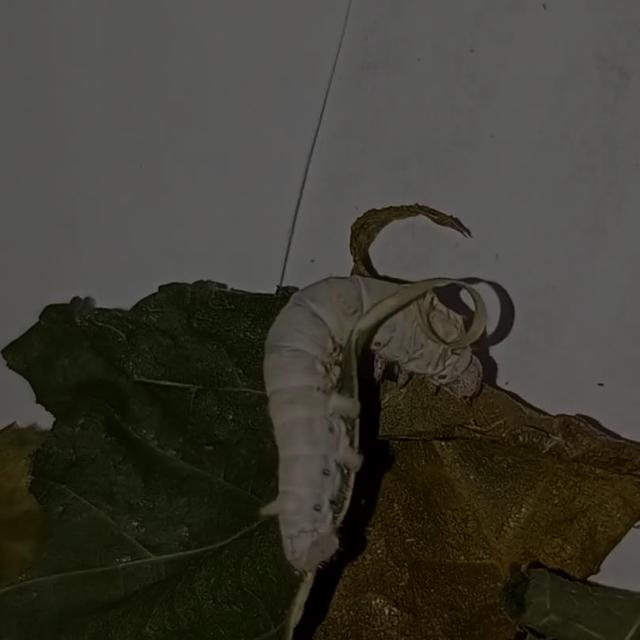Healthy: (249, 249, 498, 591)
